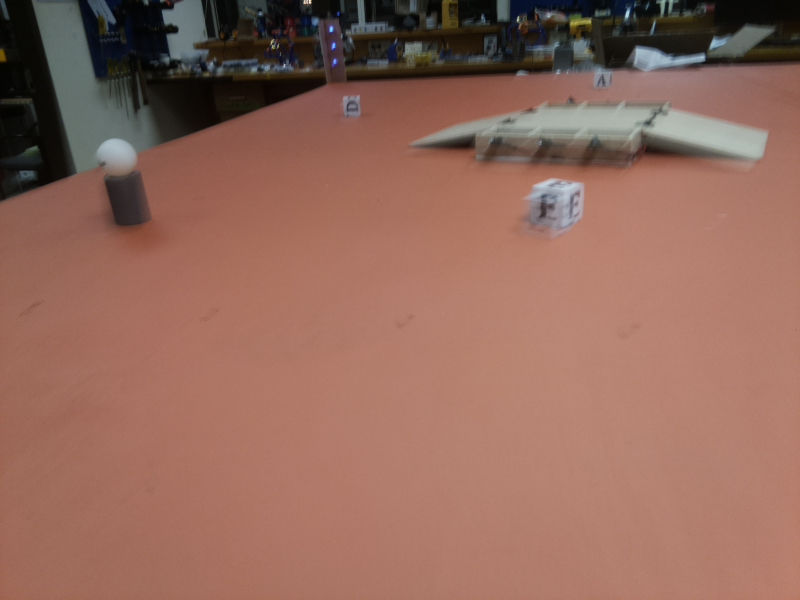blockA: (591, 68, 619, 88)
blockD: (342, 96, 362, 114)
blockE: (524, 176, 589, 232)
corner: (317, 19, 348, 82)
obstacle: (91, 140, 154, 227)
side: (471, 133, 642, 164), (543, 93, 666, 106)
slope: (642, 105, 769, 169), (428, 105, 530, 129)
